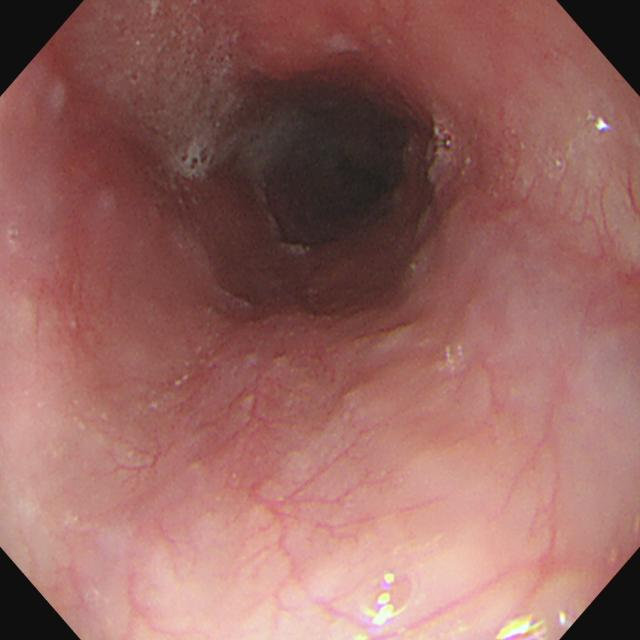A: (186, 292, 333, 460)
E: (258, 92, 404, 242)
T: (141, 5, 235, 179), (354, 573, 419, 625), (422, 115, 458, 184)
U: (497, 612, 557, 640)
